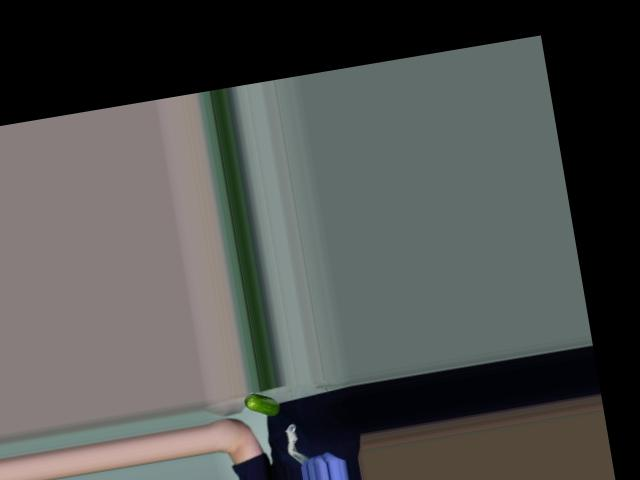cucumber: (242, 389, 280, 419)
